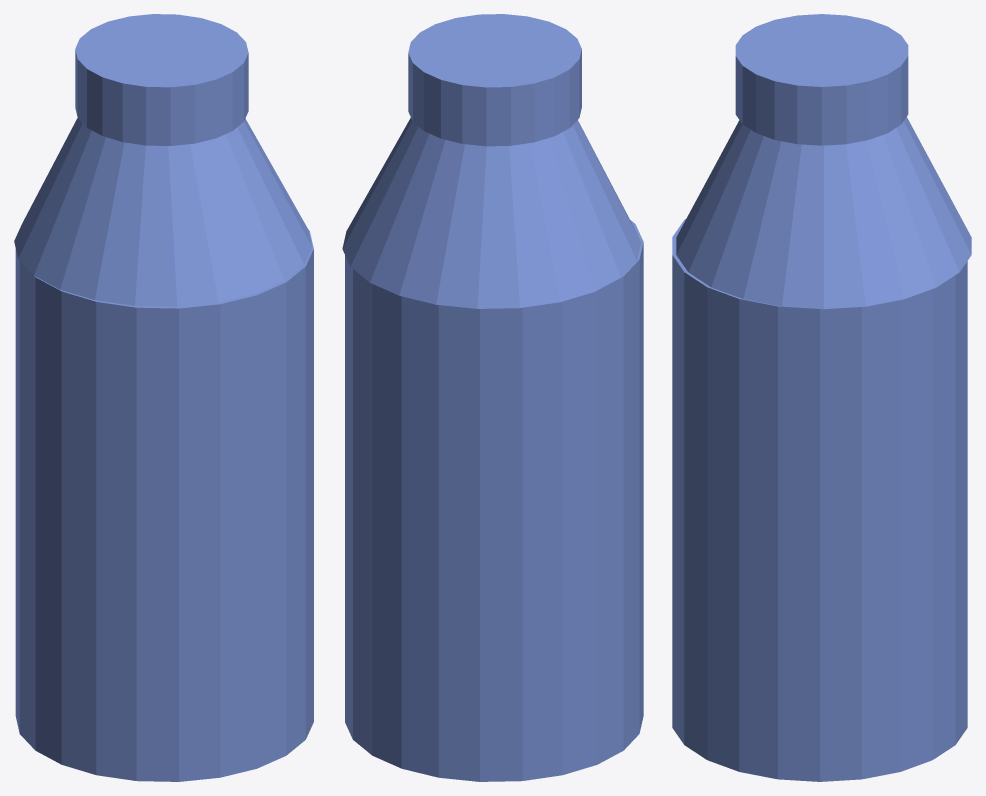
File: bottle.dae
3 renders of one model, left to right at view 1: azimuth 30°, elevation 25°; view 2: azimuth 150°, elevation 25°; view 3: azimuth 270°, elevation 25°, orthographic.
Visible parts, largest first — view 1: bottle; view 2: bottle; view 3: bottle.
Boxes of the visible parts, bbox=[...] form: bottle: bbox=[14, 14, 313, 781]; bottle: bbox=[342, 14, 643, 781]; bottle: bbox=[672, 14, 971, 781].
Size of the model in its own units: 0.0801 by 0.0803 by 0.1976.
